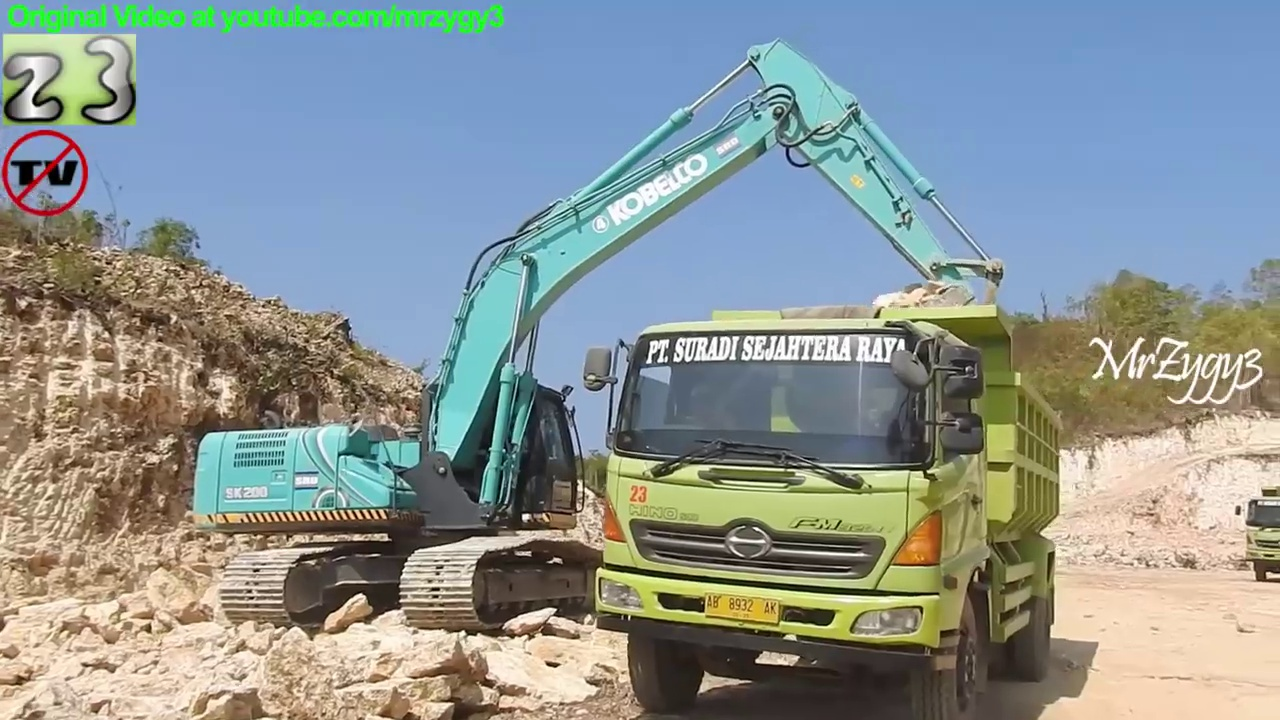excavator: (184, 28, 1017, 643)
truck: (575, 296, 1071, 720), (1230, 478, 1280, 589)
